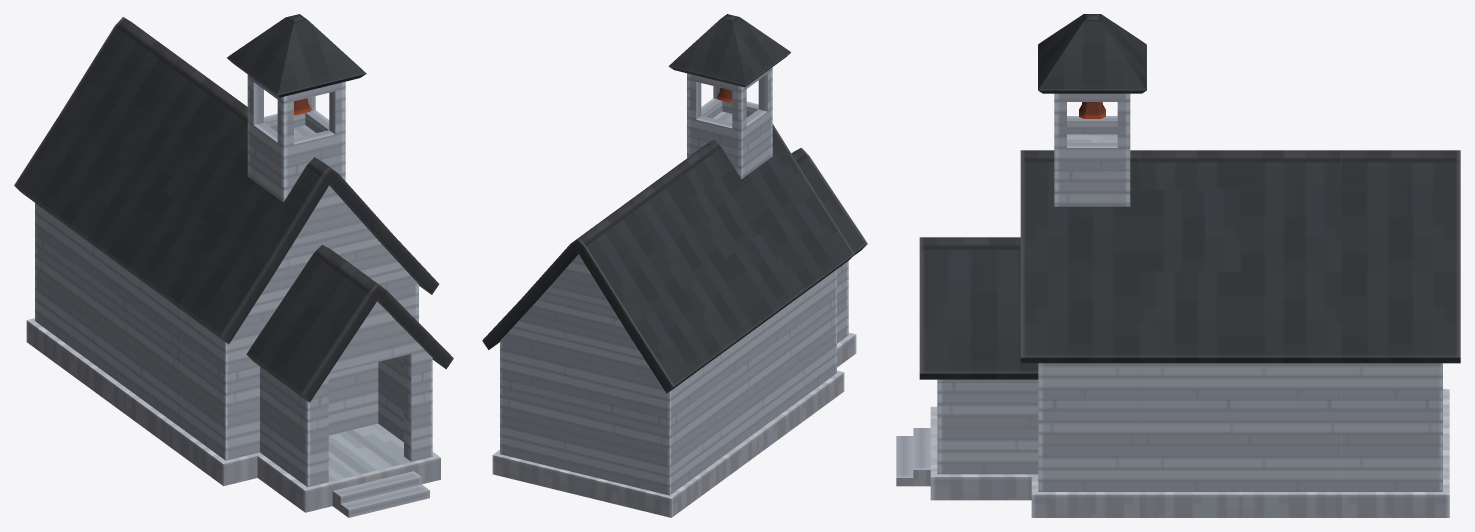
The model's file is church_v004_ncl1_1.fbx.
The picture shows the model from 3 angles, left to right: view 1: azimuth 30°, elevation 25°; view 2: azimuth 150°, elevation 25°; view 3: azimuth 270°, elevation 25°; orthographic projection. The views are drawn at different scales.
Parts seen in each view (by area): view 1: church_v004; view 2: church_v004; view 3: church_v004.
Boxes of the visible parts, x1,y1,x2,y2 form: church_v004: [14, 14, 453, 517]; church_v004: [482, 14, 867, 517]; church_v004: [896, 14, 1460, 517].
Size of the model in its own units: 528 by 982 by 1116.
